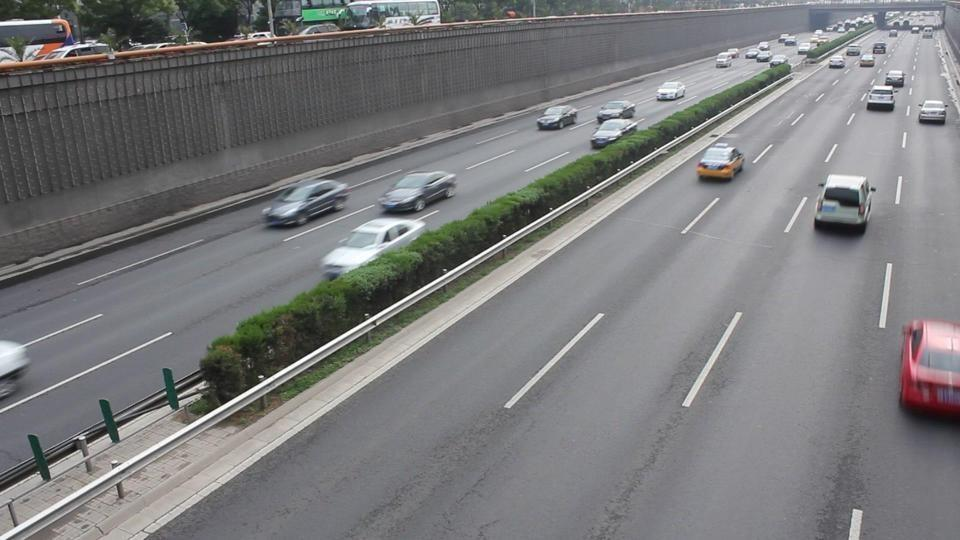car: (320, 215, 428, 281), (898, 318, 960, 420), (261, 178, 352, 228), (813, 172, 876, 234), (377, 170, 458, 214), (0, 338, 33, 399), (694, 143, 745, 182), (35, 42, 117, 63), (590, 118, 640, 149), (536, 104, 578, 130), (595, 99, 638, 122), (865, 86, 896, 111), (918, 100, 947, 124), (656, 80, 686, 100), (884, 69, 905, 87), (0, 48, 19, 64), (829, 55, 846, 69)
